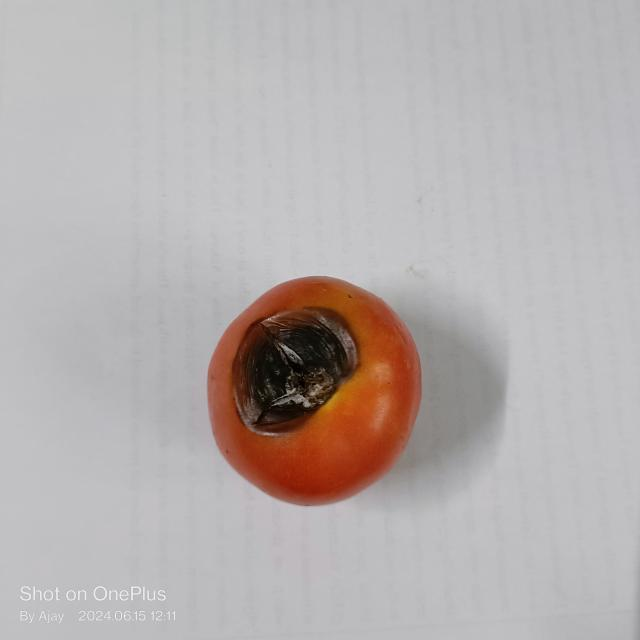Anthrocnose: (230, 304, 360, 440)
